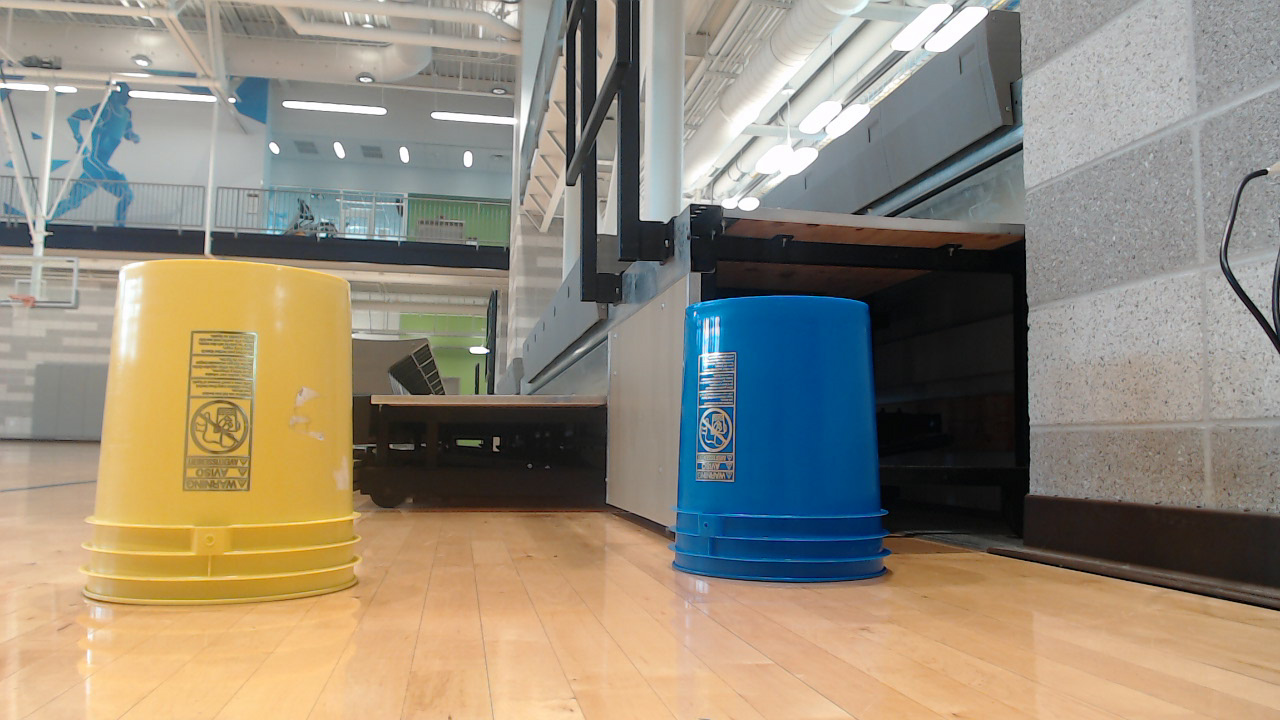blue_bucket: (666, 294, 902, 593)
yellow_bucket: (80, 258, 373, 619)
